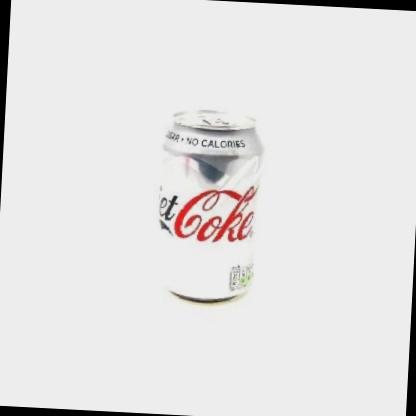alumunium_can: (151, 106, 267, 306)
